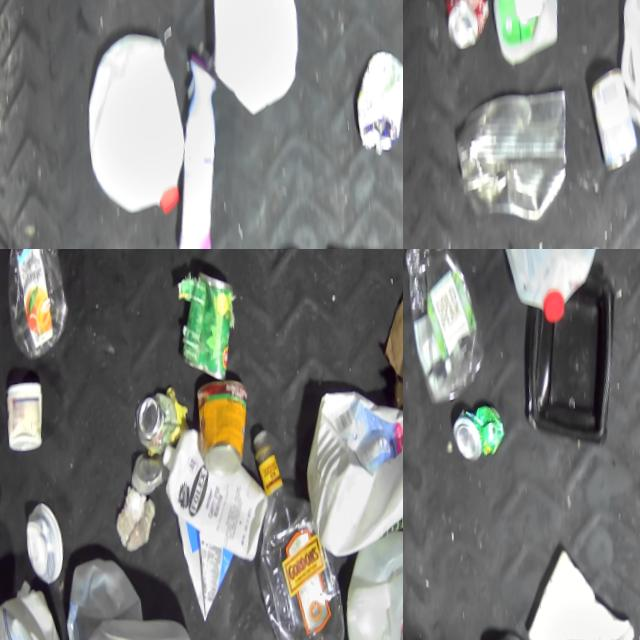can: (174, 269, 242, 393), (193, 378, 255, 487), (586, 70, 640, 185), (351, 55, 403, 166), (22, 499, 67, 592), (132, 390, 188, 463), (450, 405, 507, 468), (2, 378, 46, 458), (444, 0, 489, 60), (127, 453, 170, 503)
milk_jug: (76, 27, 196, 229), (297, 379, 403, 570), (198, 0, 305, 126), (521, 542, 639, 640), (491, 249, 612, 337), (338, 529, 403, 640), (608, 0, 640, 136)
plastic_bottle: (0, 249, 74, 369)
